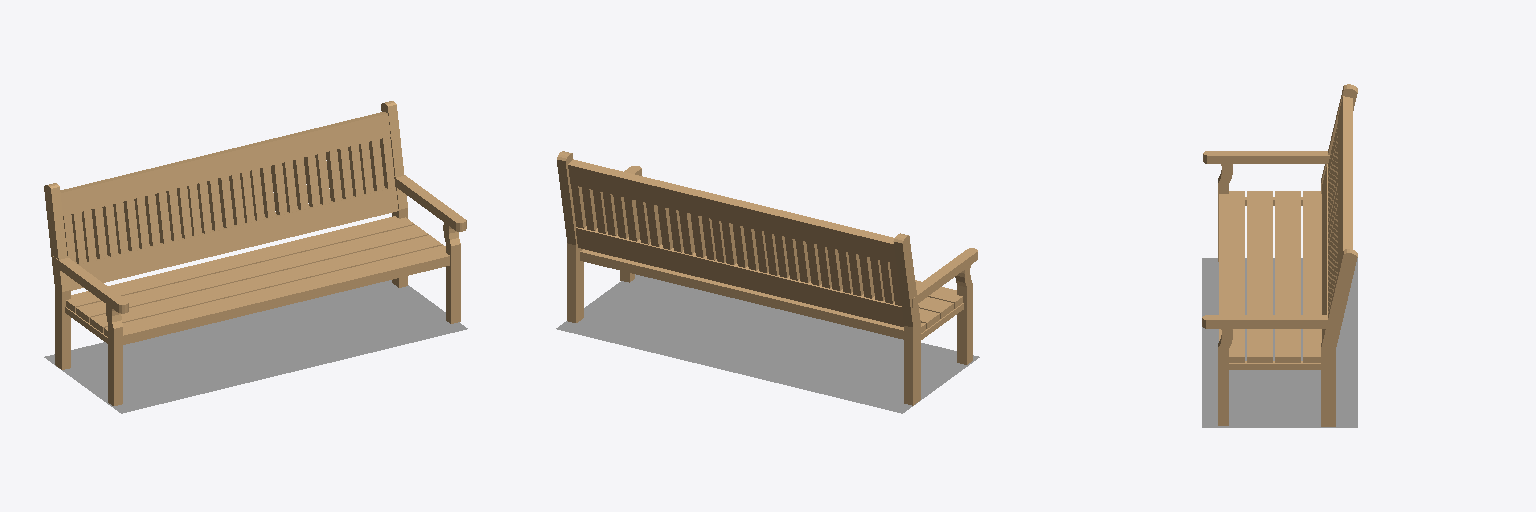
File: Bancababy.obj
3 views of the same model, side by side, from view 1: azimuth 30°, elevation 25°; view 2: azimuth 150°, elevation 25°; view 3: azimuth 270°, elevation 25° (orthographic).
Parts seen in each view (by area): view 1: ground_1, backrest_1_7, backrest_6, Cube_1_2_4, Cube_1_1_3, Cube_1_2, Cube_1_3_5, backleg_1_46, frontleg_40, frontleg_1_41, armrest_42, armrest_1_43 (+25 smaller); view 2: ground_1, backrest_1_7, backrest_6, Cube_1_3_5, backleg_1_46, backleg_39, frontleg_40, armrest_42; view 3: ground_1, Cube_1_2, Cube_1_1_3, Cube_1_2_4, Cube_1_3_5, backleg_39, backrest_1_7, armrest_1_43, armrest_42, frontleg_1_41, backrest_6, support_1_45.
Part boxes in pixels (bbox=[...]): ground_1: bbox=[44, 280, 467, 413]; backrest_1_7: bbox=[60, 112, 390, 215]; backrest_6: bbox=[70, 187, 398, 290]; Cube_1_2_4: bbox=[104, 245, 449, 344]; Cube_1_1_3: bbox=[90, 235, 442, 332]; Cube_1_2: bbox=[76, 225, 428, 322]; Cube_1_3_5: bbox=[66, 216, 414, 312]; backleg_1_46: bbox=[44, 183, 70, 369]; frontleg_40: bbox=[106, 304, 122, 405]; frontleg_1_41: bbox=[443, 223, 460, 323]; armrest_42: bbox=[53, 256, 128, 313]; armrest_1_43: bbox=[394, 175, 466, 231]; ground_1: bbox=[556, 274, 979, 413]; backrest_1_7: bbox=[568, 159, 895, 263]; backrest_6: bbox=[576, 226, 903, 326]; Cube_1_3_5: bbox=[580, 249, 925, 339]; backleg_1_46: bbox=[893, 233, 920, 405]; backleg_39: bbox=[557, 151, 583, 322]; frontleg_40: bbox=[955, 265, 972, 364]; armrest_42: bbox=[912, 248, 977, 307]; ground_1: bbox=[1202, 258, 1357, 427]; Cube_1_2: bbox=[1275, 191, 1300, 362]; Cube_1_1_3: bbox=[1247, 191, 1272, 362]; Cube_1_2_4: bbox=[1219, 191, 1244, 362]; Cube_1_3_5: bbox=[1303, 191, 1321, 362]; backleg_39: bbox=[1321, 249, 1357, 426]; backrest_1_7: bbox=[1338, 96, 1352, 271]; armrest_1_43: bbox=[1202, 315, 1336, 328]; armrest_42: bbox=[1203, 151, 1329, 163]; frontleg_1_41: bbox=[1218, 329, 1232, 425]; backrest_6: bbox=[1322, 164, 1327, 338]; support_1_45: bbox=[1229, 361, 1320, 369].
Bounding box in the file's own units: 142 × 68 × 55.